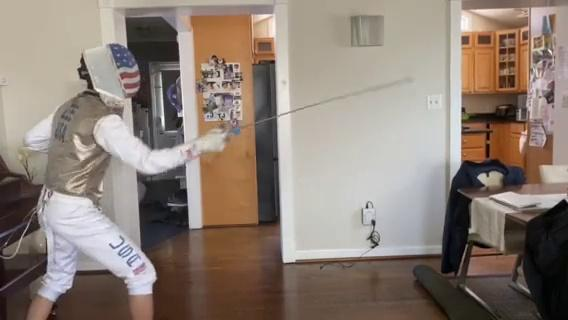blade-guard: (219, 124, 237, 144)
blade-tip: (359, 77, 416, 96)
fencing-blade: (200, 74, 423, 142)
